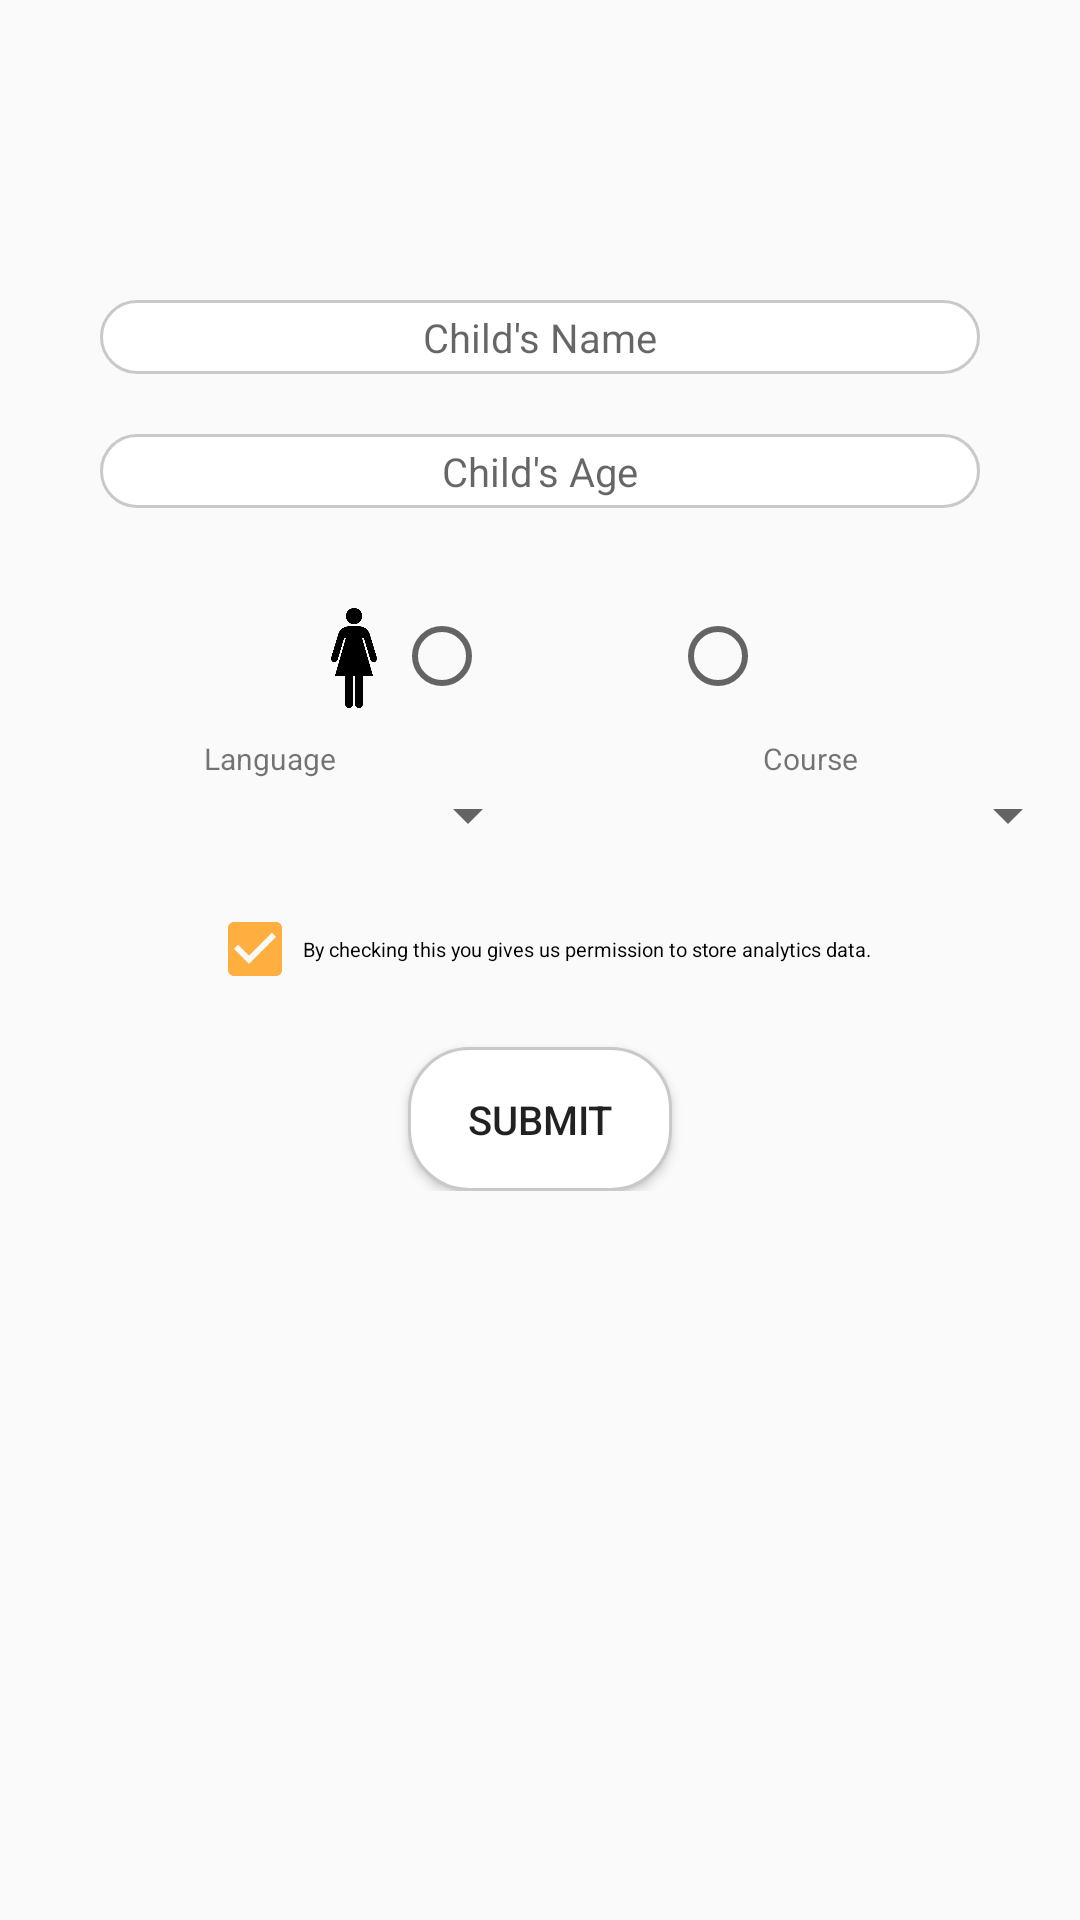

Icons on this 1080w x 1920h Android screen, each with the point to tap as (x=x, y=y):
female: (x=354, y=658)
